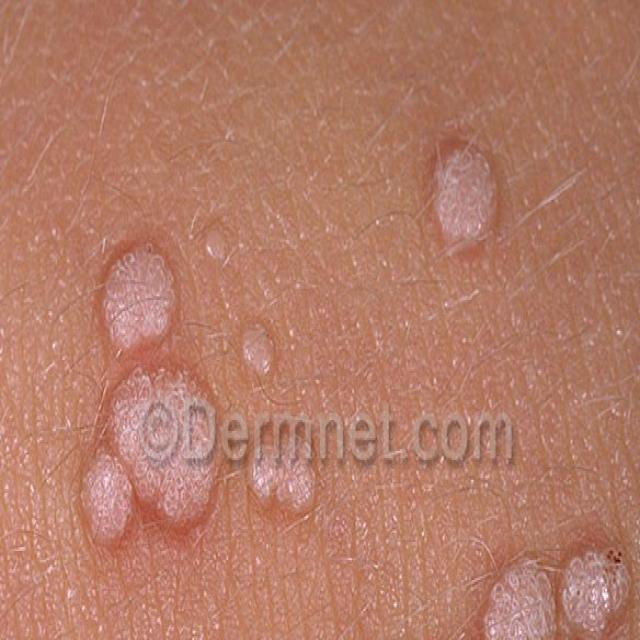Warts: (55, 220, 339, 597), (410, 527, 640, 640), (415, 121, 543, 279)
